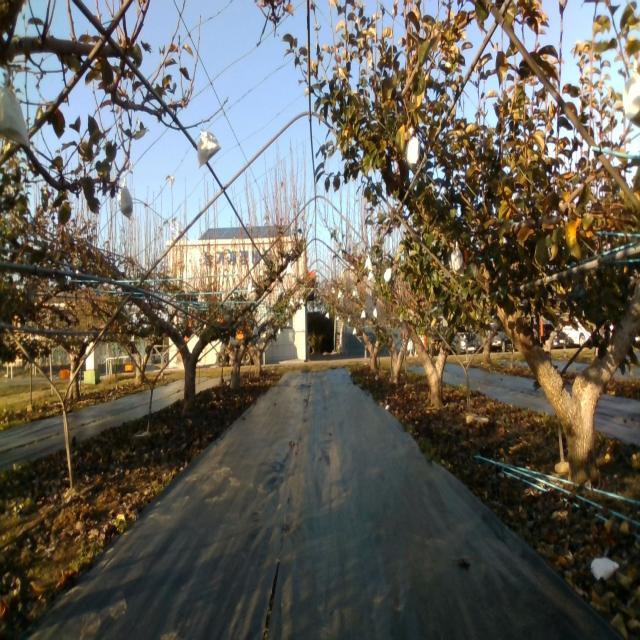pearbags: (0, 84, 31, 146), (621, 73, 640, 126), (195, 130, 220, 170), (118, 178, 134, 222), (406, 137, 421, 170), (450, 248, 462, 276)
